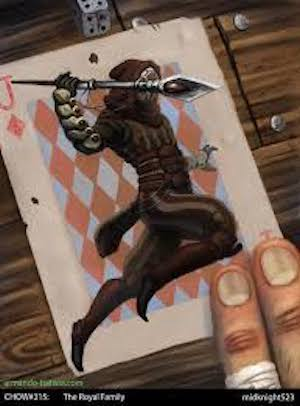JackOfDiamonds: (3, 14, 291, 375)
